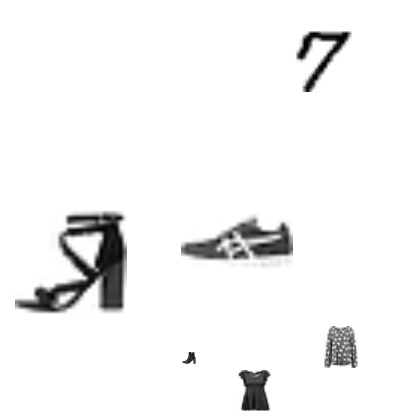7: (279, 8, 363, 92)
Ankle_boot: (182, 351, 196, 365)
Sandal: (15, 208, 127, 320)
Shirt: (320, 326, 362, 368)
Sneaker: (181, 183, 293, 295)
T-shirt/top: (233, 370, 275, 412)
